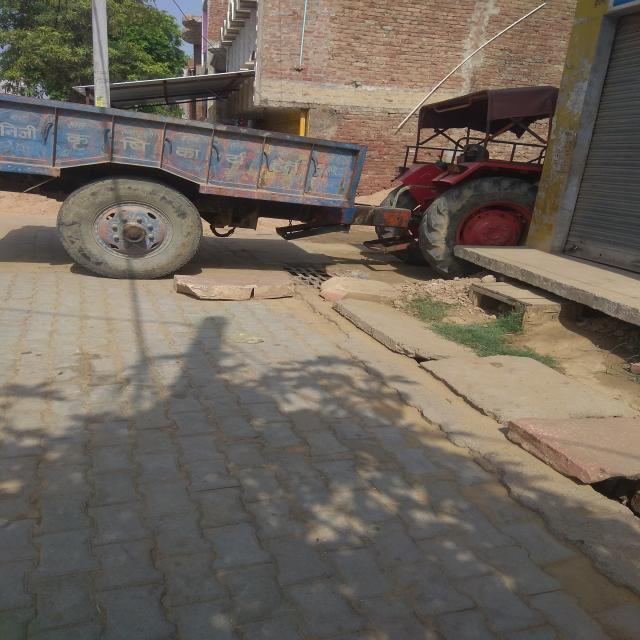Tractot: (9, 59, 552, 284)
